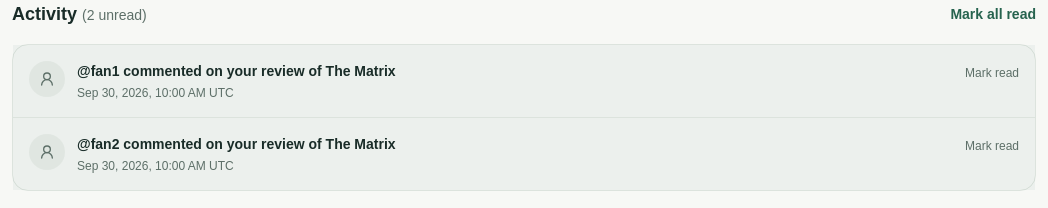
Test: <NotificationInbox> › marks one read, then all read, and refreshes the nav badge
What coordinates should you click on to do the following:
click the button with aria-label "Mark read: @fan1"
I would click on:
 (992, 73)
Its box is [965,61,1019,85].
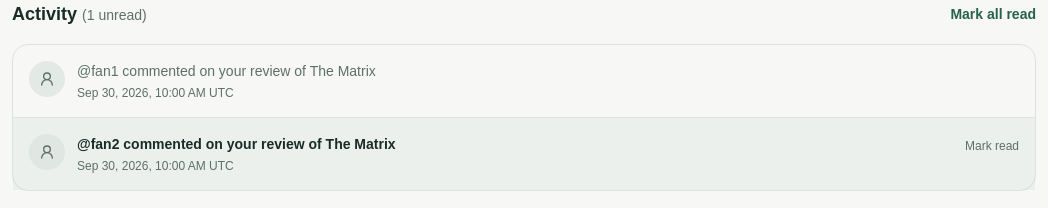
expect the text "(1 unread)" is shown: met, box [82,7,147,23]
What coordinates should you click on to do the following:
click the button "Mark all read"
I would click on:
 (993, 14)
Its box is [950,4,1036,24].
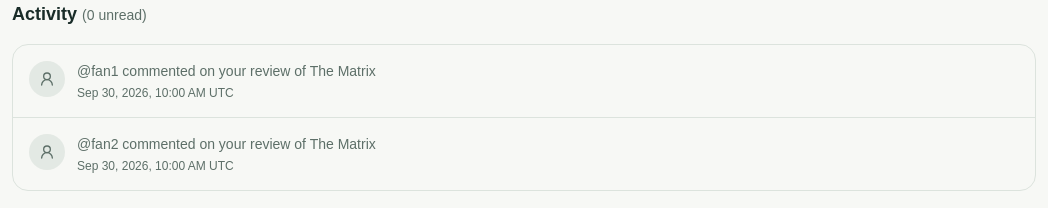
expect the text "(0 unread)" is shown: met, box [82,7,147,23]
expect the button "Mark read" is gone: met
